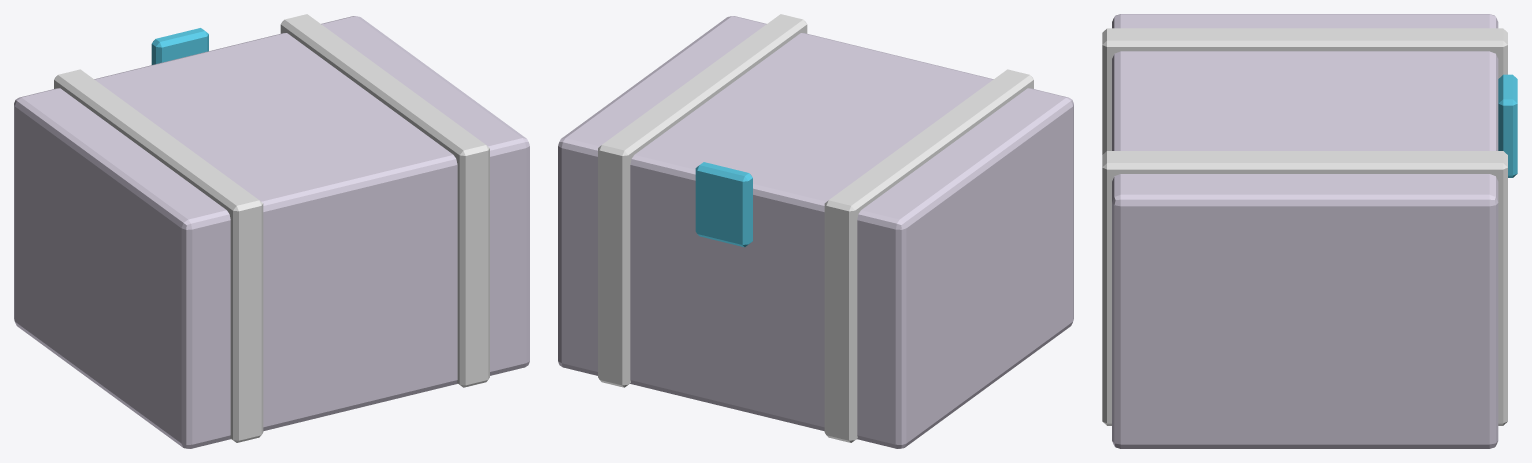
File: hallowed_mimic_chest.glb
The picture shows the model from 3 angles, left to right: view 1: azimuth 30°, elevation 25°; view 2: azimuth 150°, elevation 25°; view 3: azimuth 270°, elevation 25°; orthographic projection. The views are drawn at different scales.
Visible parts, largest first — view 1: hallowed_mimic_chest; view 2: hallowed_mimic_chest; view 3: hallowed_mimic_chest.
Part boxes in pixels (<box>): hallowed_mimic_chest: <box>14,14,529,448</box>; hallowed_mimic_chest: <box>558,14,1073,448</box>; hallowed_mimic_chest: <box>1102,14,1517,448</box>.
Size of the model in its own units: 0.92 by 0.62 by 0.86.
